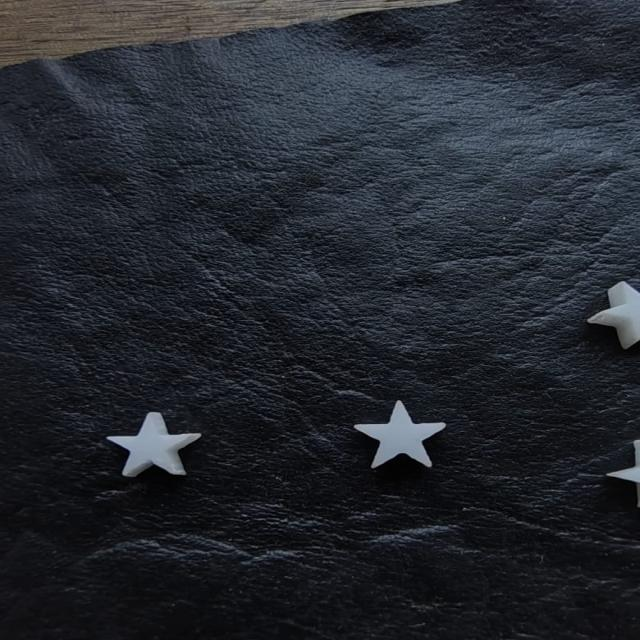estrellas: (355, 401, 447, 467), (106, 413, 191, 475)
